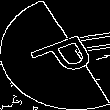P_NE: (14, 27, 96, 83)
